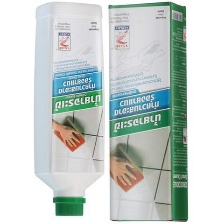book: (103, 0, 192, 223)
cleaning_solution: (31, 0, 107, 218)
